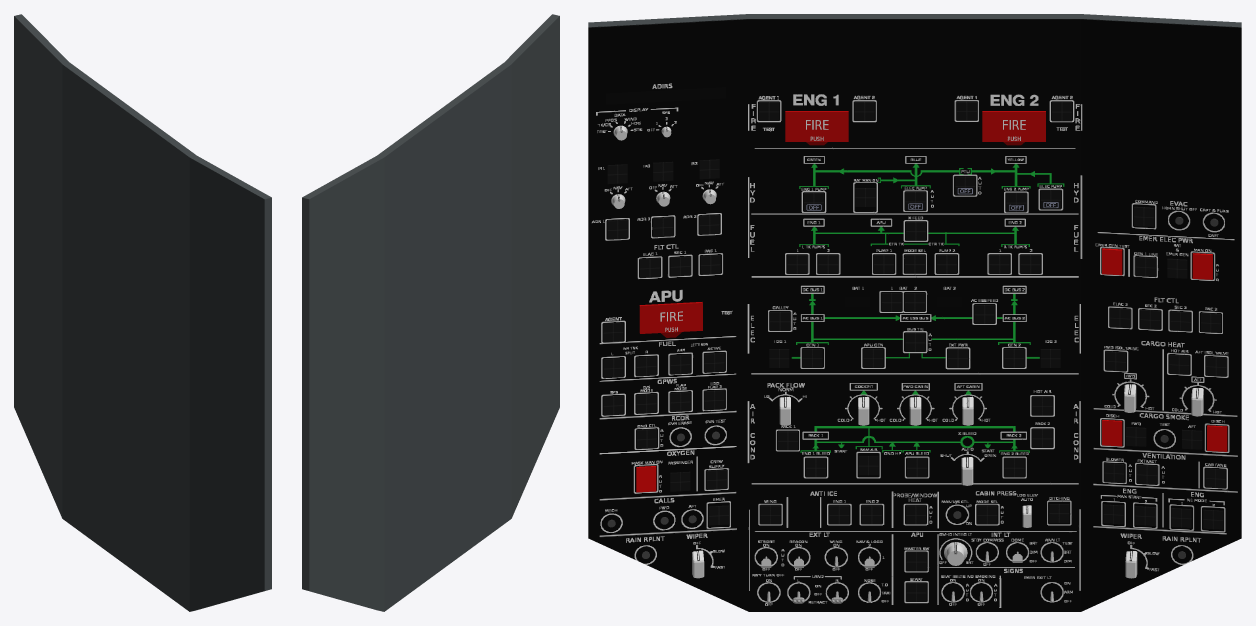
Rendered from oh-panel.fbx.
3 renders of one model, left to right at view 1: azimuth 30°, elevation 25°; view 2: azimuth 150°, elevation 25°; view 3: azimuth 270°, elevation 25°, orthographic. The views are drawn at different scales.
Visible parts, largest first — view 1: MarkingLts; view 2: MarkingLts; view 3: MarkingLts.001, MarkingLts, Eng2Fire, Eng1Fire, APUFire.
Part boxes in pixels (bbox=[...]): MarkingLts: bbox=[14, 14, 271, 611]; MarkingLts: bbox=[302, 14, 559, 611]; MarkingLts.001: bbox=[588, 19, 1241, 611]; MarkingLts: bbox=[588, 14, 1241, 27]; Eng2Fire: bbox=[982, 111, 1045, 145]; Eng1Fire: bbox=[785, 111, 848, 145]; APUFire: bbox=[639, 302, 702, 337].
Bounding box in the file's own units: 3.76 × 65.01 × 64.96.
